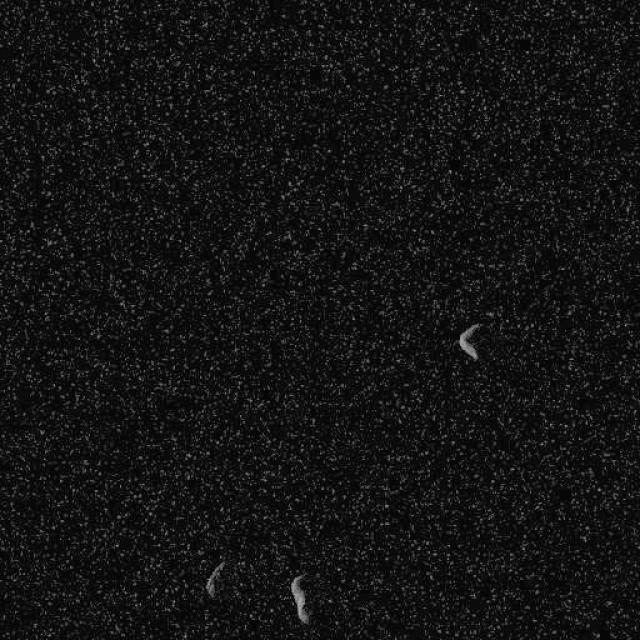D2: (289, 574, 310, 625), (457, 321, 482, 361), (204, 558, 225, 598)
